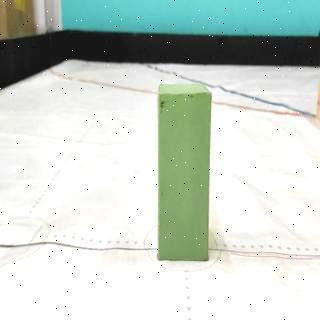greenbox: (158, 84, 212, 262)
